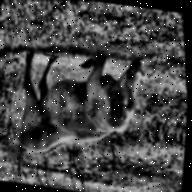boar: (11, 42, 152, 170)
